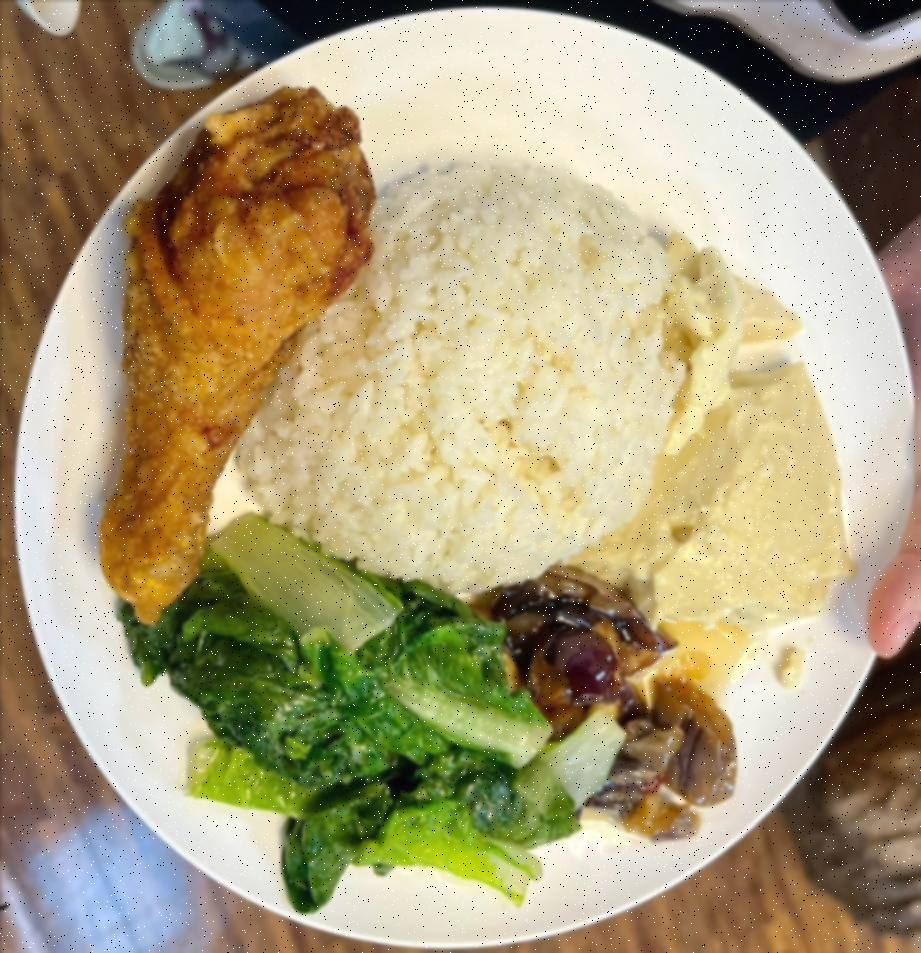big fried chicken leg: (2, 4, 921, 953)
big herbal chicken leg: (239, 156, 670, 588)
braised fish fillet: (124, 528, 611, 913), (619, 227, 856, 654), (470, 566, 739, 840)
braised pork: (86, 74, 374, 624)
